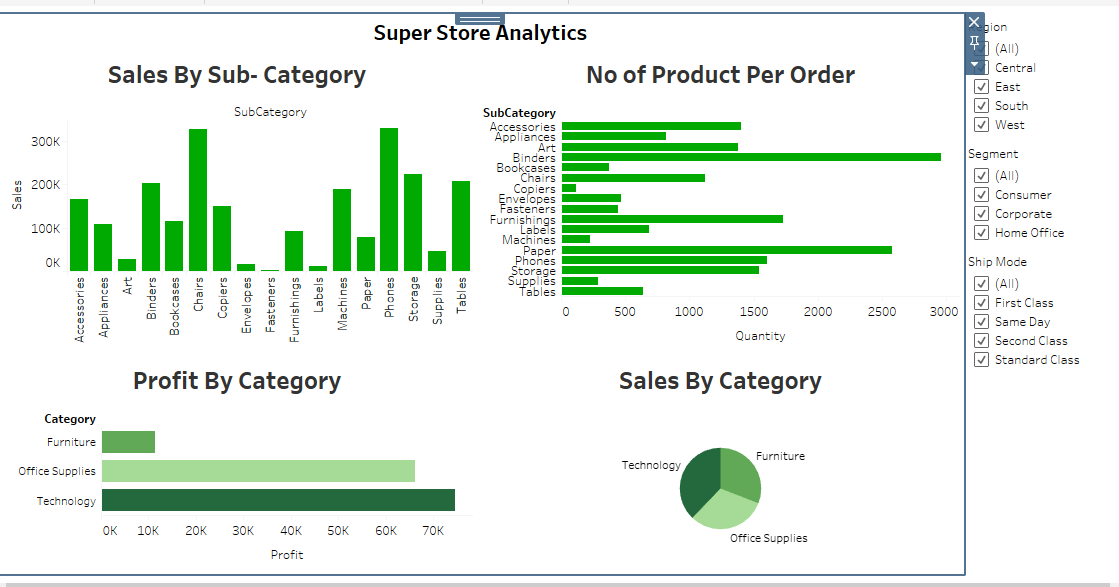

This screenshot's page, from the dashboard's own definition file:
{"tool":"tableau","page":{"name":"Super Strore Analytics","canvas":[1000,1000],"units":"permille","ordinal":1},"visuals":[{"type":"worksheet","box":[0,0,1000,1000]},{"type":"worksheet","param":"horz","box":[7,13.9,986,972.2]},{"type":"worksheet","box":[7,13.9,849,972.2]},{"type":"worksheet","box":[7,13.9,849,60.8]},{"type":"worksheet","param":"vert","box":[856,13.9,137,972.2]},{"type":"worksheet","title":"Sales By Sub-Category ","mark":"Automatic","rows":["Sales"],"cols":["Sub-Category"],"param":"[federated.0jub4au10kx7xx13f0wmv18lgzpd].[none:Region:nk]","box":[856,13.9,137,220.5]},{"type":"worksheet","title":"Sales By Sub-Category ","mark":"Automatic","rows":["Sales"],"cols":["Sub-Category"],"box":[7,74.7,421.1,531.2]},{"type":"worksheet","title":"Number Of Product Per Order","mark":"Automatic","rows":["Sub-Category"],"cols":["Quantity"],"box":[428.1,74.7,427.9,531.2]},{"type":"worksheet","title":"Sales By Sub-Category ","mark":"Automatic","rows":["Sales"],"cols":["Sub-Category"],"param":"[federated.0jub4au10kx7xx13f0wmv18lgzpd].[none:Segment:nk]","box":[856,234.4,137,187.5]},{"type":"worksheet","title":"Sales By Sub-Category ","mark":"Automatic","rows":["Sales"],"cols":["Sub-Category"],"param":"[federated.0jub4au10kx7xx13f0wmv18lgzpd].[none:Ship Mode:nk]","box":[856,421.9,137,220.5]},{"type":"worksheet","title":"Profit By Category ","mark":"Automatic","rows":["Category"],"cols":["Profit"],"box":[7,605.9,421.1,380.2]},{"type":"worksheet","title":"Sales By Category","mark":"Pie","box":[428.1,605.9,427.9,380.2]}]}

Visuals, with their boxes on the dashboard's canvas, which has no fixed pixel size, in thousandths of its width and height (x1, y1, x2, y2). These are canvas units, not pixel positions in the 1119x587 screenshot, which may show the page scaled, cropped or inside an application window:
worksheet: select_region(0, 0, 1000, 1000)
worksheet: select_region(7, 14, 993, 986)
worksheet: select_region(7, 14, 856, 986)
worksheet: select_region(7, 14, 856, 75)
worksheet: select_region(856, 14, 993, 986)
"Sales By Sub-Category " worksheet: select_region(856, 14, 993, 234)
"Sales By Sub-Category " worksheet: select_region(7, 75, 428, 606)
"Number Of Product Per Order" worksheet: select_region(428, 75, 856, 606)
"Sales By Sub-Category " worksheet: select_region(856, 234, 993, 422)
"Sales By Sub-Category " worksheet: select_region(856, 422, 993, 642)
"Profit By Category " worksheet: select_region(7, 606, 428, 986)
"Sales By Category" worksheet (Pie marks): select_region(428, 606, 856, 986)
